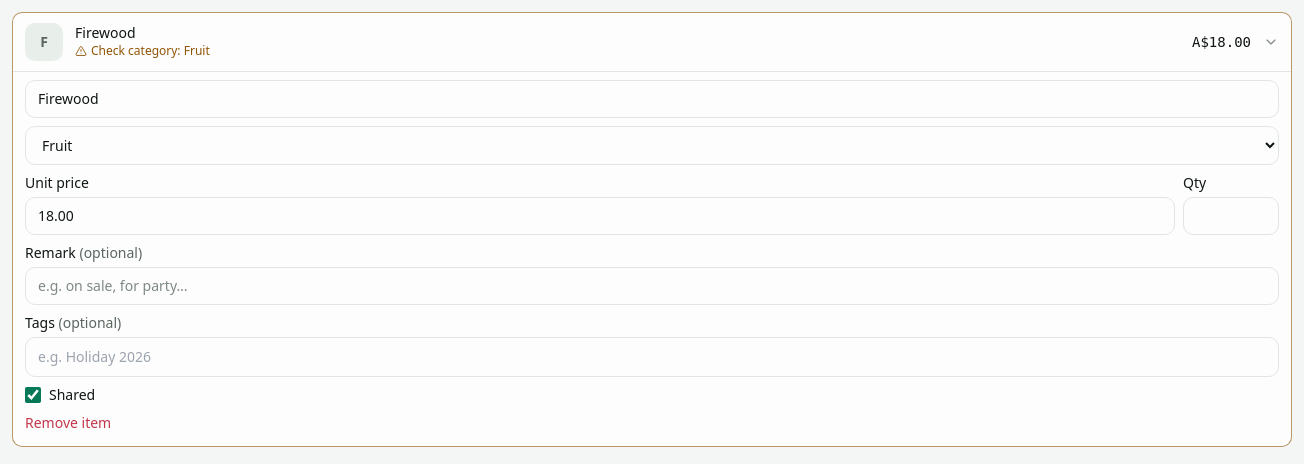
Test case: ItemRow category check › clears the marker once a category is chosen
The width and height of the screenshot is (1304, 464).
Select "Bakery" in the 2nd dropdown showing "Fruit": (652, 146) [25,126,1279,165]
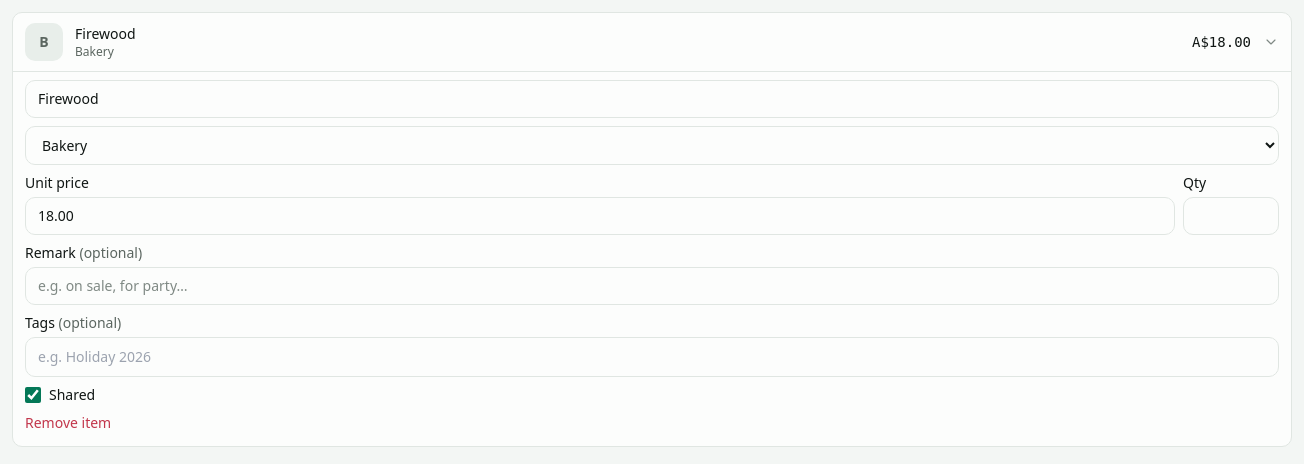
Now the button "Check category" is gone
